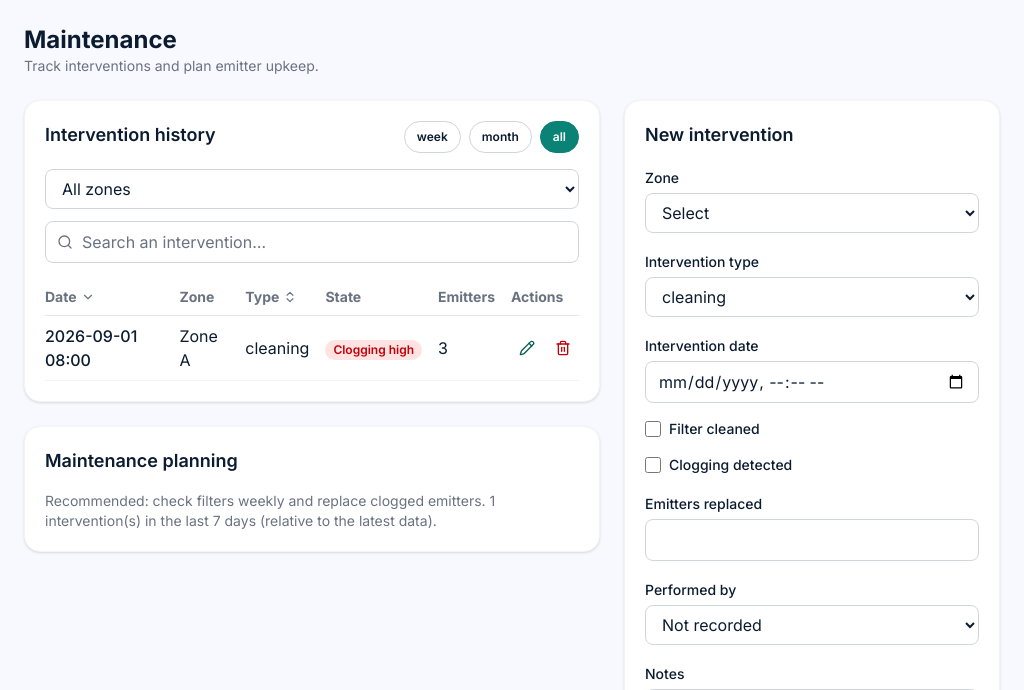
Test: DripView › keeps the dialog open with the error when the deletion fails
Expected: the text "Clogging high" is shown, x1=325 y1=340 x2=422 y2=360
Step 1. Click the button named "Delete" → click(563, 348), box x1=547 y1=332 x2=579 y2=364
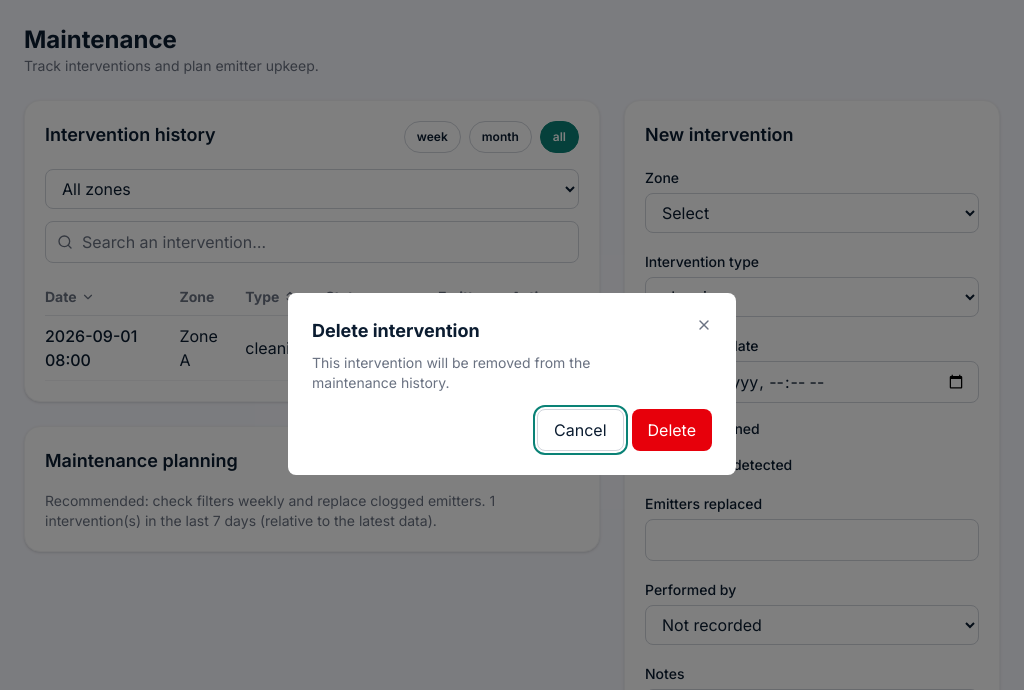
Step 2. Click the button "Delete" → click(672, 430), box x1=632 y1=409 x2=712 y2=451
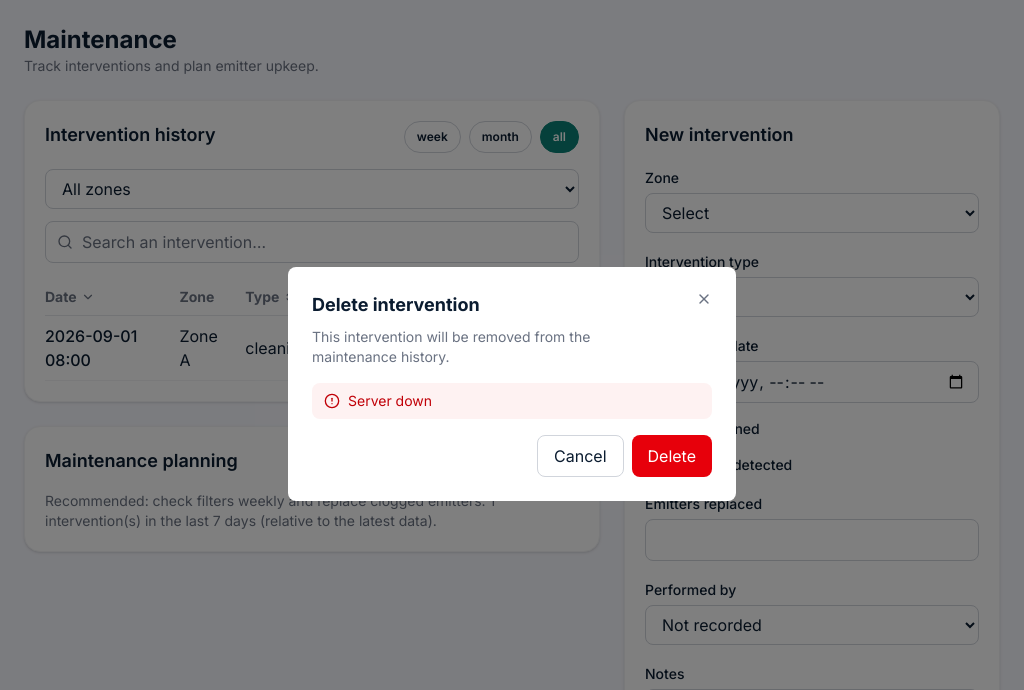
Expected: the message reads "Server down", x1=348 y1=392 x2=432 y2=409
